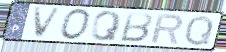B: (118, 11, 155, 44)
O: (59, 7, 93, 42)
Q: (89, 10, 123, 42), (183, 14, 215, 47)
R: (149, 12, 185, 45)
V: (32, 7, 64, 40)
